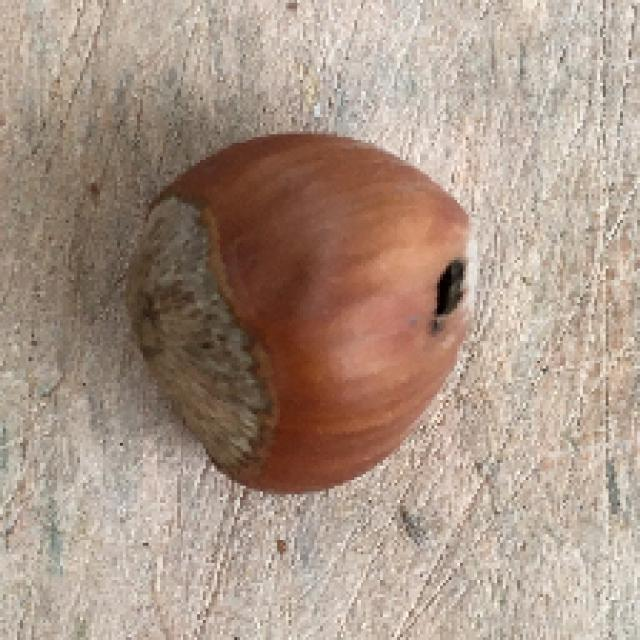damagedHazelnut: (117, 121, 484, 492)
